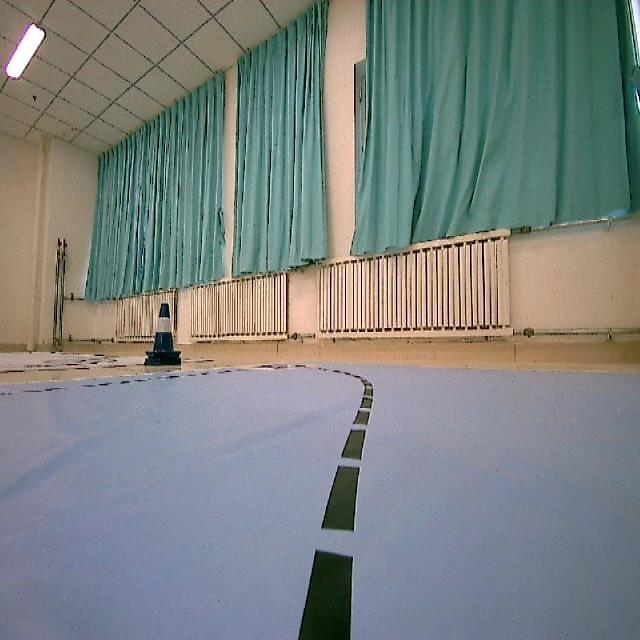obstacle: (140, 296, 183, 372)
